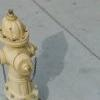Hydrant: (2, 4, 44, 100)
